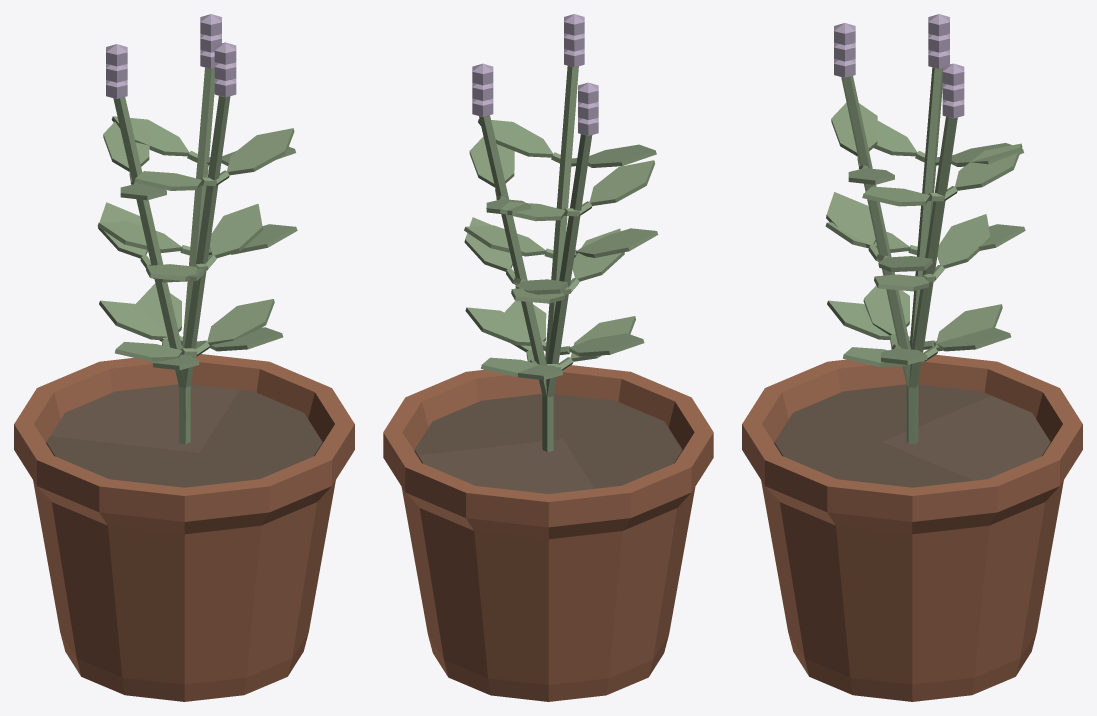
Rendered from sage.glb.
3 renders of one model, left to right at view 1: azimuth 30°, elevation 25°; view 2: azimuth 150°, elevation 25°; view 3: azimuth 270°, elevation 25°, orthographic. The views are drawn at different scales.
Visible parts, largest first — view 1: sage/review-terra-vessel, sage/review-rooted-soil, sage/stem-017, sage/stem-001, sage/stem-033, sage/leaf-025, sage/leaf-029, sage/leaf-021, sage/leaf-037, sage/leaf-041, sage/leaf-011, sage/leaf-045 (+8 smaller); view 2: sage/review-terra-vessel, sage/review-rooted-soil, sage/stem-001, sage/stem-033, sage/stem-017, sage/leaf-013, sage/leaf-021, sage/leaf-029, sage/leaf-023, sage/leaf-025, sage/leaf-043, sage/leaf-019 (+10 smaller); view 3: sage/review-terra-vessel, sage/review-rooted-soil, sage/stem-017, sage/stem-033, sage/stem-001, sage/leaf-041, sage/leaf-023, sage/leaf-045, sage/leaf-037, sage/leaf-027, sage/leaf-019, sage/leaf-005 (+11 smaller).
Boxes of the visible parts, left/top/right/bottom form: sage/review-terra-vessel: left=14, top=354, right=354, bottom=701; sage/review-rooted-soil: left=46, top=384, right=322, bottom=487; sage/stem-017: left=179, top=96, right=230, bottom=444; sage/stem-001: left=113, top=97, right=185, bottom=439; sage/stem-033: left=182, top=67, right=214, bottom=444; sage/leaf-025: left=210, top=204, right=262, bottom=258; sage/leaf-029: left=227, top=128, right=294, bottom=175; sage/leaf-021: left=207, top=299, right=274, bottom=345; sage/leaf-037: left=99, top=300, right=167, bottom=339; sage/leaf-041: left=97, top=221, right=181, bottom=252; sage/leaf-011: left=103, top=118, right=149, bottom=171; sage/leaf-045: left=111, top=116, right=189, bottom=156; sage/review-terra-vessel: left=383, top=365, right=713, bottom=701; sage/review-rooted-soil: left=414, top=393, right=682, bottom=493; sage/stem-001: left=542, top=134, right=592, bottom=451; sage/stem-033: left=479, top=115, right=553, bottom=451; sage/stem-017: left=545, top=66, right=578, bottom=446; sage/leaf-013: left=589, top=160, right=654, bottom=205; sage/leaf-021: left=465, top=307, right=530, bottom=345; sage/leaf-029: left=478, top=118, right=553, bottom=157; sage/leaf-023: left=576, top=228, right=658, bottom=257; sage/leaf-025: left=464, top=225, right=545, bottom=256; sage/leaf-043: left=469, top=136, right=514, bottom=187; sage/leaf-019: left=568, top=333, right=644, bottom=356; sage/review-terra-vessel: left=742, top=354, right=1082, bottom=701; sage/review-rooted-soil: left=774, top=384, right=1050, bottom=487; sage/stem-017: left=841, top=76, right=916, bottom=443; sage/stem-033: left=906, top=116, right=957, bottom=443; sage/stem-001: left=910, top=67, right=942, bottom=443; sage/leaf-041: left=937, top=214, right=990, bottom=268; sage/leaf-023: left=826, top=192, right=875, bottom=248; sage/leaf-045: left=955, top=143, right=1022, bottom=190; sage/leaf-037: left=935, top=304, right=1002, bottom=351; sage/leaf-027: left=831, top=102, right=877, bottom=156; sage/leaf-019: left=863, top=285, right=909, bottom=335; sage/leaf-005: left=827, top=300, right=889, bottom=339.
Size of the model in its own units: 0.19 by 0.389 by 0.19.
4 materials, 4 textured.
